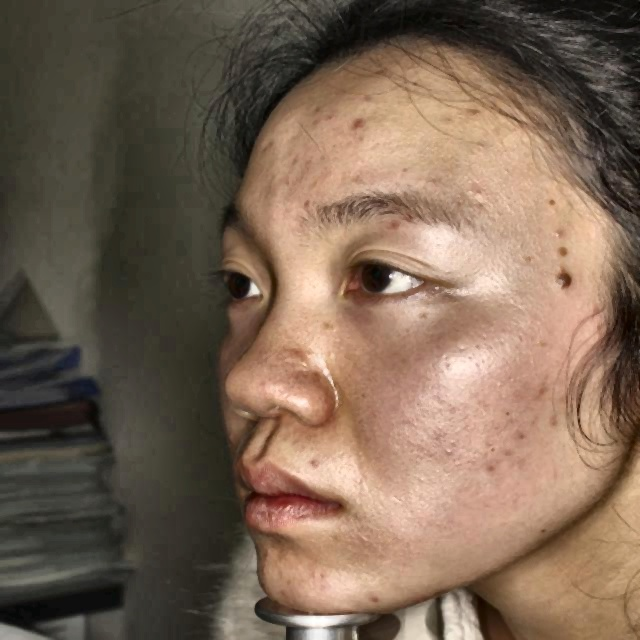comedone: (298, 90, 337, 133), (348, 107, 383, 146), (283, 355, 321, 381)
